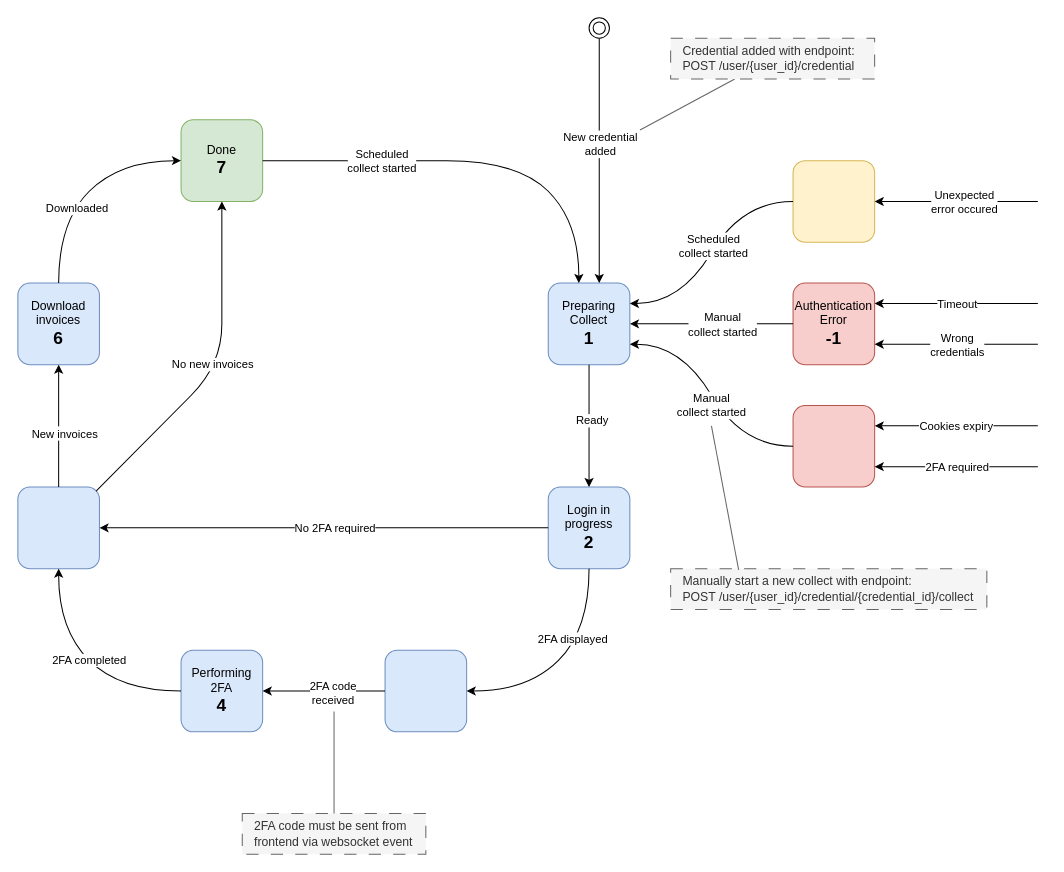
Image size: 1064x872. Some labels were removed from this diagram. Each missing label, with the centre of its shape:
"2FA required 3" belongs at point (425, 690).
"Collecting data 5" belongs at point (58, 527).
"Disconnected Error -2" belongs at point (833, 445).
"Unknown Error 0" belongs at point (833, 201).
